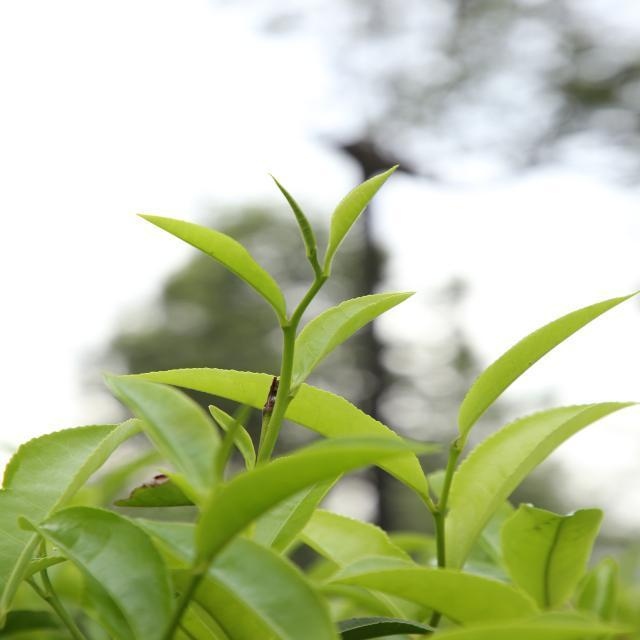Stem: (283, 324, 295, 342)
